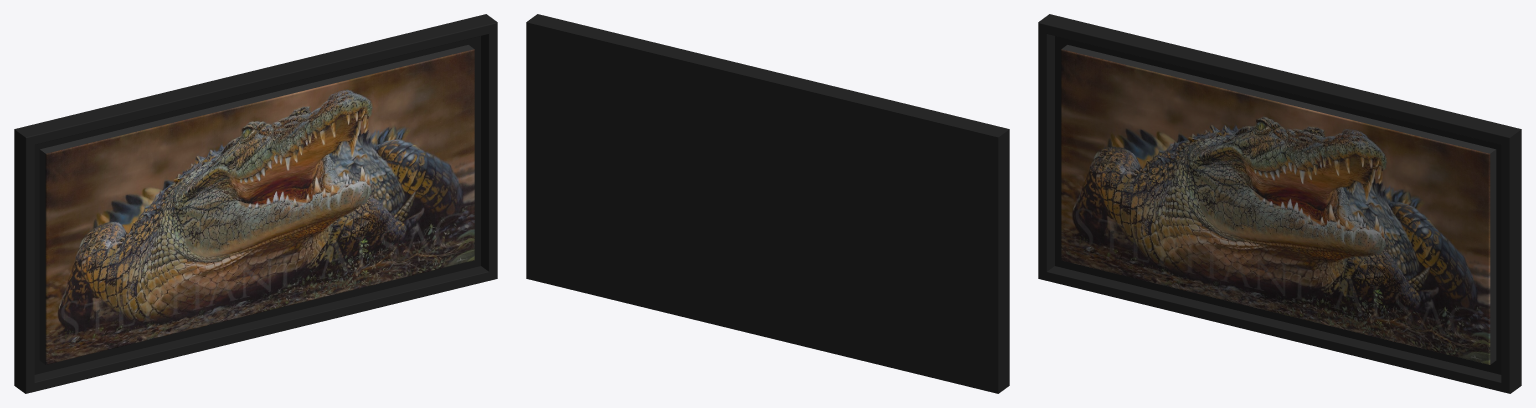
The model's file is tableau-crocodile-classique-c37b17d6.glb.
3 renders of one model, left to right at view 1: azimuth 30°, elevation 25°; view 2: azimuth 150°, elevation 25°; view 3: azimuth 330°, elevation 25°, orthographic.
Visible parts, largest first — view 1: Painting; view 2: Painting; view 3: Painting.
Boxes of the visible parts, box(x1,y1,x2,y2) form: Painting: box(14, 14, 497, 393); Painting: box(526, 14, 1009, 393); Painting: box(1038, 14, 1521, 393).
Size of the model in its own units: 0.936 by 0.486 by 0.04.
Materials: 4 (2 with a texture image).
